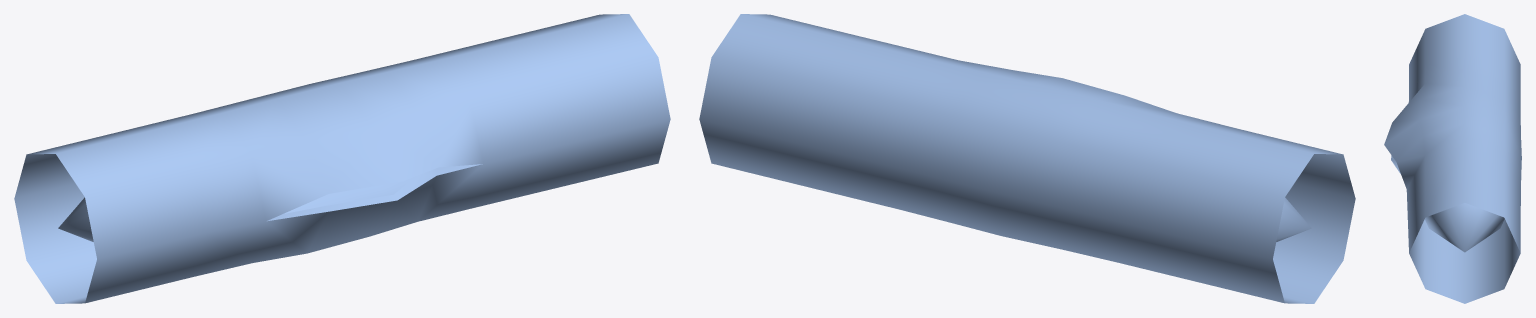
The model's file is PipeSmall_BrokenStraight_02.fbx.
3 renders of one model, left to right at view 1: azimuth 30°, elevation 25°; view 2: azimuth 150°, elevation 25°; view 3: azimuth 270°, elevation 25°, orthographic. The views are drawn at different scales.
Visible parts, largest first — view 1: PipeSmall_BrokenStraight_02.001; view 2: PipeSmall_BrokenStraight_02.001; view 3: PipeSmall_BrokenStraight_02.001.
Boxes of the visible parts, box(x1,y1,x2,y2) form: PipeSmall_BrokenStraight_02.001: box(14, 14, 670, 303); PipeSmall_BrokenStraight_02.001: box(699, 14, 1355, 303); PipeSmall_BrokenStraight_02.001: box(1384, 14, 1521, 303).
Size of the model in its own units: 0.4 by 0.1016 by 0.1234.
